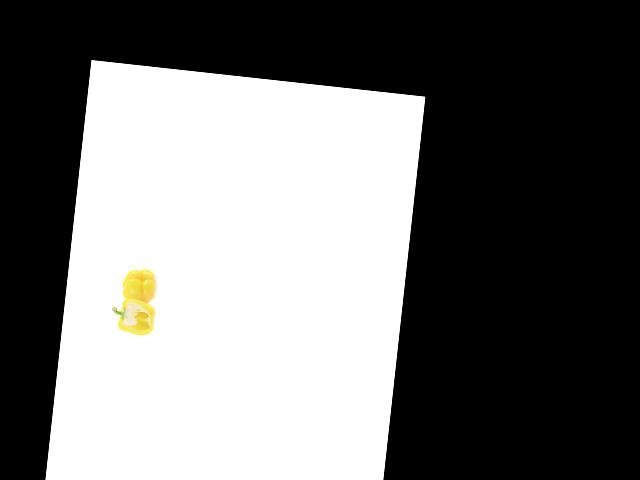bell_pepper: (108, 290, 165, 339)
